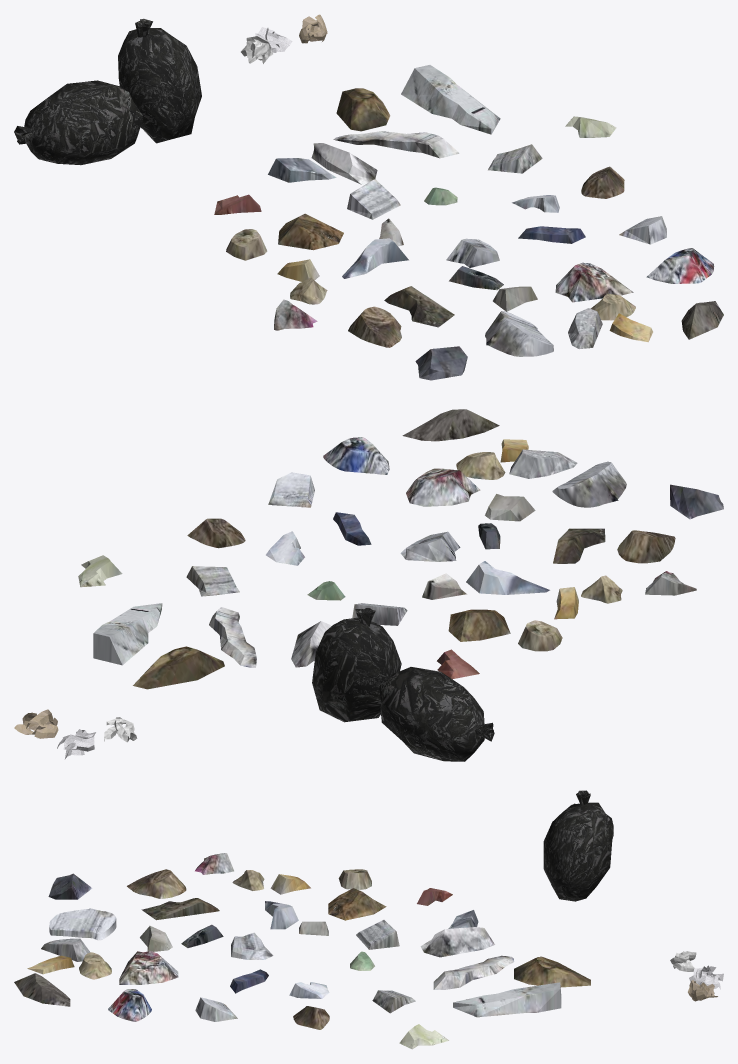
Rendered from sampah.fbx.
3 views of the same model, one above another, from view 1: azimuth 30°, elevation 25°; view 2: azimuth 150°, elevation 25°; view 3: azimuth 270°, elevation 25° (orthographic). The views are drawn at different scales.
Parts seen in each view (by area): view 1: Group41, Group40, Group35, Group3, Group4, Group21, Group6, Group33, Group16, Group19, Group26, Group18 (+24 smaller); view 2: Group41, Group40, Group35, Group6, Group3, Group4, Group22, Group16, Group33, Group21, Group7, Group19 (+23 smaller); view 3: Group40, Group35, Group3, Group26, Group6, Group4, Group21, Group33, Group19, Group22, Group18, Group16 (+20 smaller).
Boxes of the visible parts, box(x1,y1,x2,y2) form: Group41: box(14, 80, 143, 165); Group40: box(118, 18, 201, 143); Group35: box(401, 65, 500, 134); Group3: box(485, 311, 553, 356); Group4: box(555, 262, 633, 302); Group21: box(333, 131, 459, 158); Group6: box(336, 88, 390, 131); Group33: box(278, 213, 343, 250); Group16: box(646, 248, 714, 283); Group19: box(348, 306, 401, 347); Group26: box(311, 143, 377, 184); Group18: box(384, 286, 454, 327); Group41: box(379, 667, 494, 761); Group40: box(312, 608, 401, 722); Group35: box(93, 603, 162, 665); Group6: box(133, 646, 224, 689); Group3: box(552, 461, 626, 507); Group4: box(406, 468, 480, 506); Group22: box(402, 409, 499, 441); Group16: box(323, 437, 389, 474); Group33: box(448, 609, 510, 641); Group21: box(209, 607, 256, 667); Group7: box(466, 561, 549, 594); Group19: box(617, 530, 675, 563); Group40: box(543, 790, 612, 901); Group35: box(453, 982, 561, 1017); Group3: box(49, 908, 116, 940); Group26: box(420, 927, 494, 957); Group6: box(514, 956, 590, 987); Group4: box(119, 951, 178, 984); Group21: box(433, 955, 514, 989); Group33: box(328, 888, 386, 920); Group19: box(127, 869, 186, 898); Group22: box(14, 973, 70, 1006); Group18: box(141, 898, 219, 920); Group16: box(108, 989, 151, 1021).
Bounding box in the file's own units: 3.2 × 0.8196 × 4.69.
